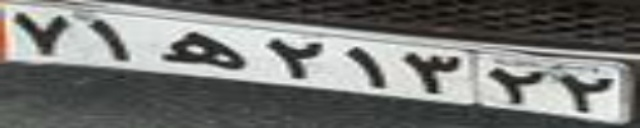1: (343, 46, 383, 87), (88, 17, 125, 60)
2: (263, 38, 325, 78), (560, 75, 615, 113), (485, 68, 543, 104)
3: (403, 51, 458, 94)
7: (12, 11, 70, 55)
he: (158, 30, 246, 69)
